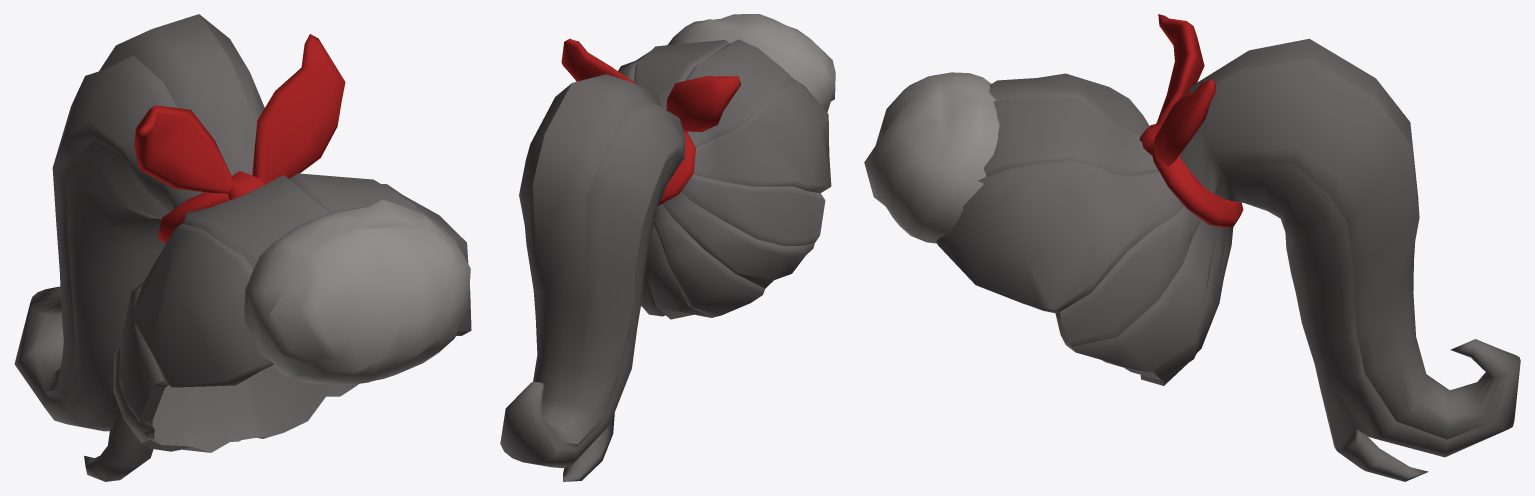
Rendered from Hair_06_04.fbx.
3 renders of one model, left to right at view 1: azimuth 30°, elevation 25°; view 2: azimuth 150°, elevation 25°; view 3: azimuth 270°, elevation 25°, orthographic. The views are drawn at different scales.
Parts seen in each view (by area): view 1: Hair_06_04; view 2: Hair_06_04; view 3: Hair_06_04.
Boxes of the visible parts, x1,y1,x2,y2 form: Hair_06_04: [14, 14, 471, 481]; Hair_06_04: [500, 14, 835, 481]; Hair_06_04: [864, 14, 1520, 481].
Size of the model in its own units: 39.37 by 59.41 by 78.66.
